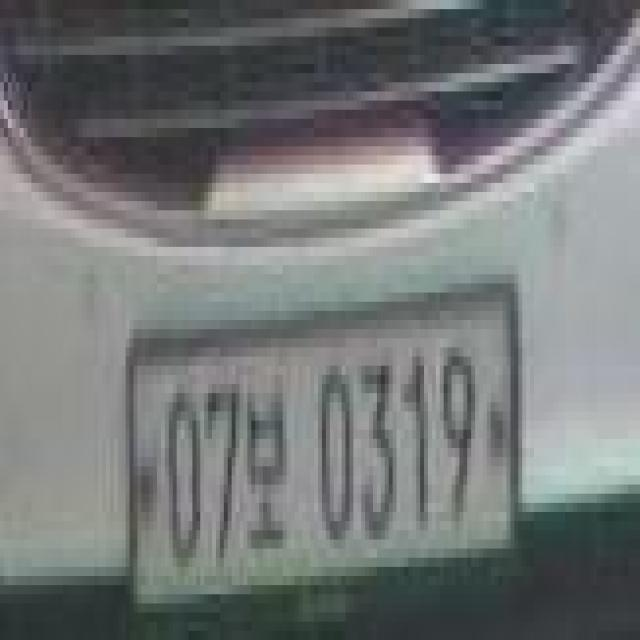illegal_plate: (122, 286, 526, 624)
